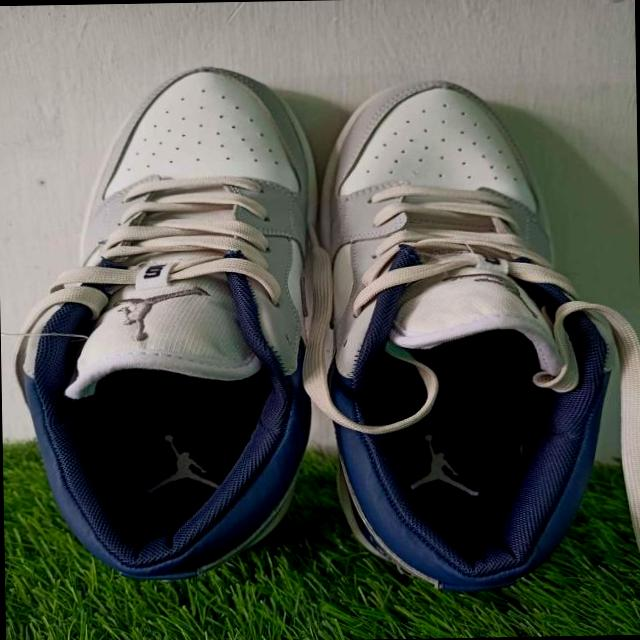nike_fake_jordan: (9, 63, 320, 587), (308, 75, 616, 590)
